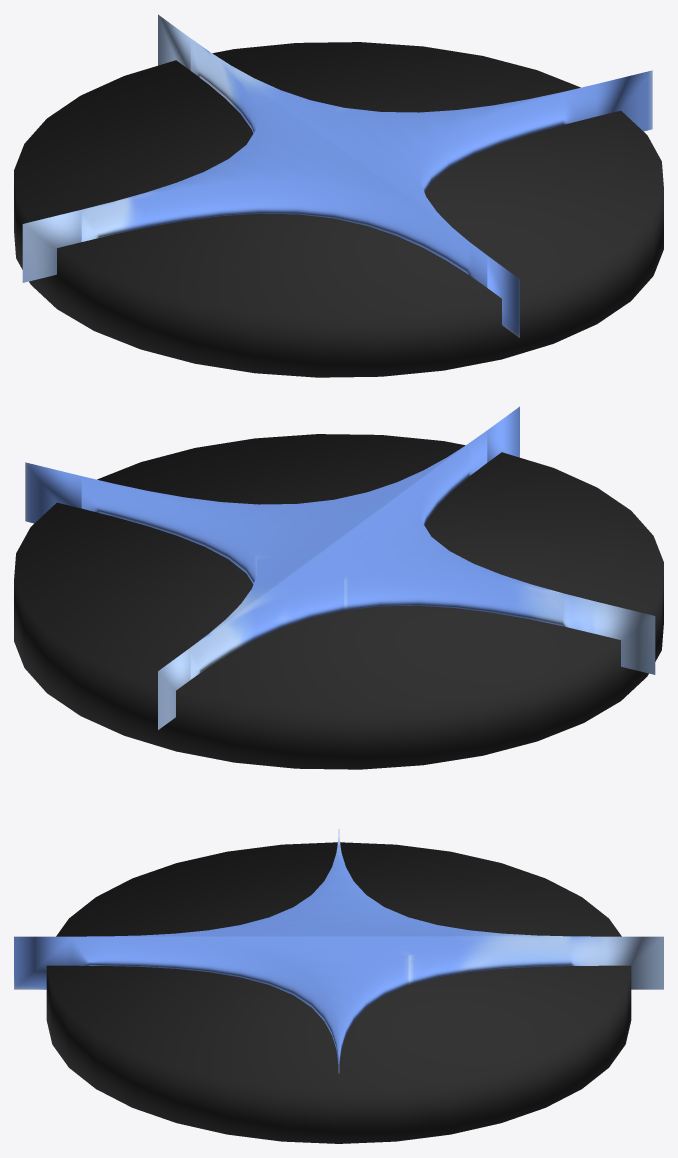
Rendered from Gemma.glb.
3 renders of one model, top to bottom at view 1: azimuth 30°, elevation 25°; view 2: azimuth 150°, elevation 25°; view 3: azimuth 270°, elevation 25°, orthographic. The views are drawn at different scales.
Parts seen in each view (by area): view 1: Circle, Cube; view 2: Circle, Cube; view 3: Circle, Cube.
Part boxes in pixels (<box>): Circle: <box>14,42,663,377</box>; Cube: <box>22,14,652,337</box>; Circle: <box>14,434,663,769</box>; Cube: <box>25,406,655,729</box>; Circle: <box>46,842,631,1143</box>; Cube: <box>14,829,663,1073</box>.
Size of the model in its own units: 2.23 by 0.3166 by 2.22.
Materials: 2 (1 with a texture image).
